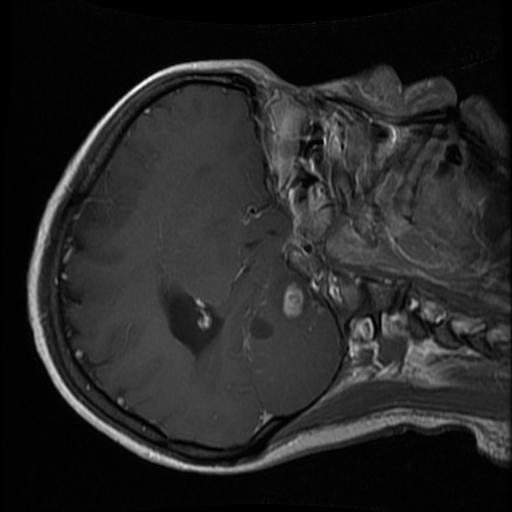glioma: (281, 286, 302, 316)
